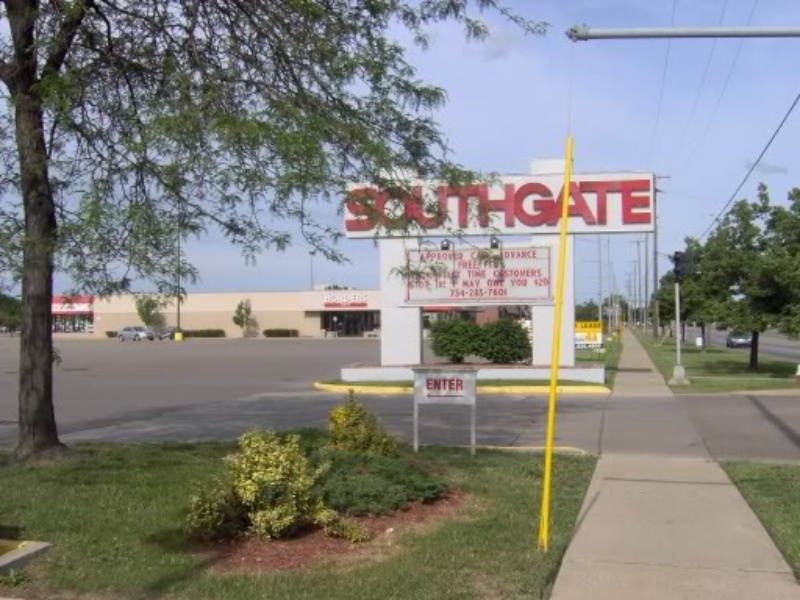text: (353, 179, 368, 230), (369, 179, 384, 230), (385, 179, 400, 230), (401, 179, 416, 230), (417, 179, 432, 230), (433, 179, 448, 230), (449, 179, 464, 230), (465, 179, 480, 230), (481, 179, 496, 230), (497, 179, 512, 230), (513, 179, 528, 230), (529, 179, 544, 230), (545, 179, 560, 230), (561, 179, 576, 230), (577, 179, 592, 230), (593, 179, 608, 230), (609, 179, 624, 230), (625, 179, 640, 230), (641, 179, 652, 230), (347, 179, 352, 230), (449, 379, 465, 391), (433, 379, 448, 391), (513, 249, 528, 260), (353, 293, 369, 302), (449, 252, 465, 261), (466, 269, 480, 279), (337, 293, 352, 302), (433, 252, 448, 261), (465, 279, 480, 288), (449, 288, 464, 297), (465, 288, 480, 297), (481, 288, 496, 297), (577, 321, 592, 330), (465, 260, 479, 269), (497, 269, 512, 277), (513, 269, 528, 277), (529, 269, 544, 277), (419, 252, 432, 261), (486, 277, 496, 288), (497, 277, 507, 288), (324, 293, 336, 302), (529, 249, 538, 260), (469, 251, 480, 260), (497, 288, 508, 297), (513, 279, 527, 286), (353, 302, 369, 308), (337, 302, 352, 308), (504, 249, 512, 260), (481, 251, 490, 260), (593, 321, 602, 330), (426, 379, 432, 391), (324, 302, 336, 308), (538, 277, 544, 288), (457, 260, 464, 269), (481, 269, 486, 279), (545, 277, 549, 288), (461, 279, 464, 288), (493, 269, 496, 277), (574, 321, 576, 330), (510, 279, 512, 286)
